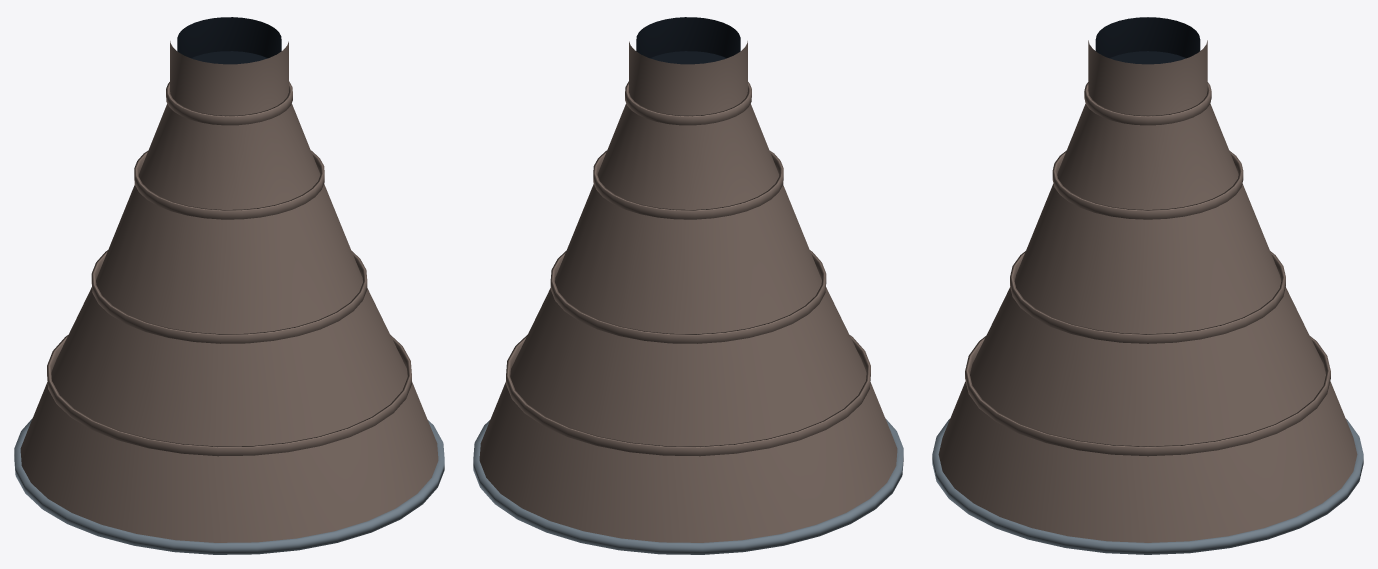
The model's file is orion_las.abort_nozzle_02.glb.
The picture shows the model from 3 angles, left to right: view 1: azimuth 30°, elevation 25°; view 2: azimuth 150°, elevation 25°; view 3: azimuth 270°, elevation 25°; orthographic projection.
Parts seen in each view (by area): view 1: orion_las.abort_nozzle_02.bell.mesh_Heat-stained_alloy, orion_las.abort_nozzle_02.bell.mesh_Machined_steel, orion_las.abort_nozzle_02.bell.mesh_Shadowed_interior; view 2: orion_las.abort_nozzle_02.bell.mesh_Heat-stained_alloy, orion_las.abort_nozzle_02.bell.mesh_Machined_steel, orion_las.abort_nozzle_02.bell.mesh_Shadowed_interior; view 3: orion_las.abort_nozzle_02.bell.mesh_Heat-stained_alloy, orion_las.abort_nozzle_02.bell.mesh_Machined_steel, orion_las.abort_nozzle_02.bell.mesh_Shadowed_interior.
Boxes of the visible parts, bbox=[...] form: orion_las.abort_nozzle_02.bell.mesh_Heat-stained_alloy: bbox=[20, 41, 438, 542]; orion_las.abort_nozzle_02.bell.mesh_Machined_steel: bbox=[14, 418, 444, 554]; orion_las.abort_nozzle_02.bell.mesh_Shadowed_interior: bbox=[177, 17, 281, 64]; orion_las.abort_nozzle_02.bell.mesh_Heat-stained_alloy: bbox=[479, 41, 897, 542]; orion_las.abort_nozzle_02.bell.mesh_Machined_steel: bbox=[473, 418, 903, 554]; orion_las.abort_nozzle_02.bell.mesh_Shadowed_interior: bbox=[636, 17, 740, 64]; orion_las.abort_nozzle_02.bell.mesh_Heat-stained_alloy: bbox=[938, 40, 1357, 542]; orion_las.abort_nozzle_02.bell.mesh_Machined_steel: bbox=[932, 419, 1363, 554]; orion_las.abort_nozzle_02.bell.mesh_Shadowed_interior: bbox=[1095, 17, 1200, 64].
Bounding box in the file's own units: 0.2854 × 0.31 × 0.2854.
